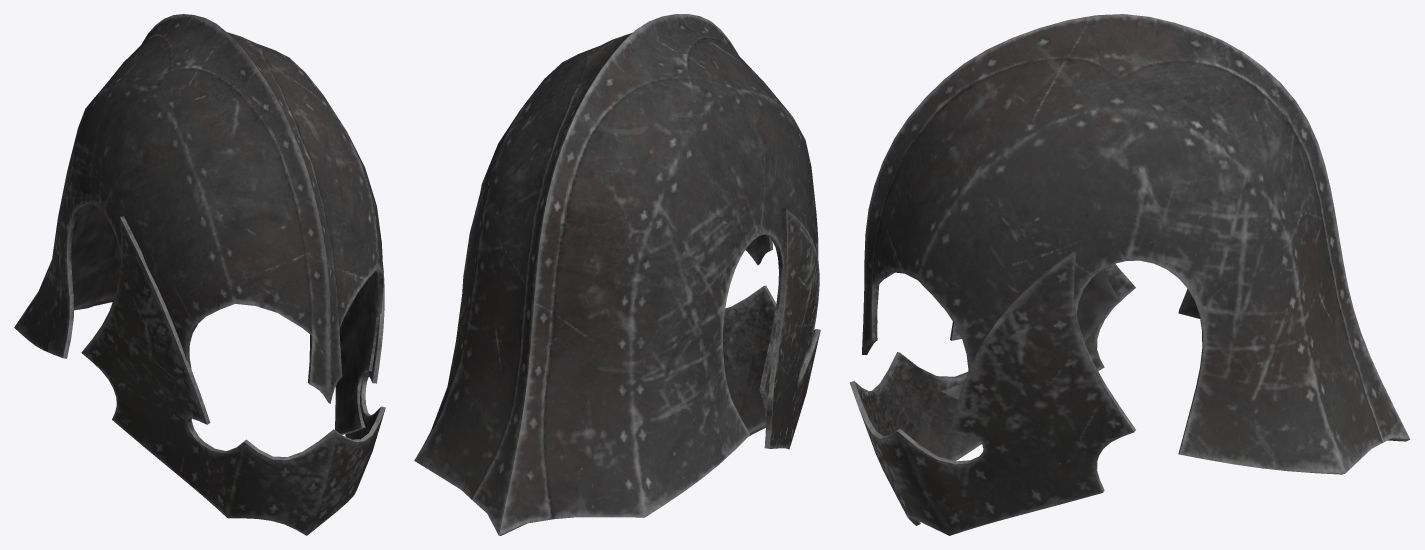
Rendered from sk_uruk_mordor_helmet_heavy_a1.fbx.
The picture shows the model from 3 angles, left to right: view 1: azimuth 30°, elevation 25°; view 2: azimuth 150°, elevation 25°; view 3: azimuth 270°, elevation 25°; orthographic projection. The views are drawn at different scales.
Visible parts, largest first — view 1: sk_uruk_mordor_helmet_heavy_a1; view 2: sk_uruk_mordor_helmet_heavy_a1; view 3: sk_uruk_mordor_helmet_heavy_a1.
Boxes of the visible parts, <box> form: sk_uruk_mordor_helmet_heavy_a1: <box>14,14,385,535</box>; sk_uruk_mordor_helmet_heavy_a1: <box>414,14,820,535</box>; sk_uruk_mordor_helmet_heavy_a1: <box>849,14,1410,535</box>.
Bounding box in the file's own units: 0.1989 × 0.3225 × 0.3248.
Materials: 1 (1 with a texture image).
